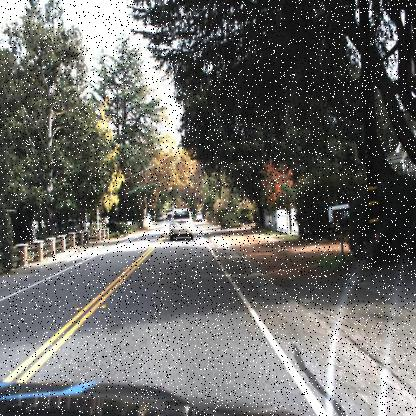car: (168, 206, 194, 246), (191, 208, 206, 224)
